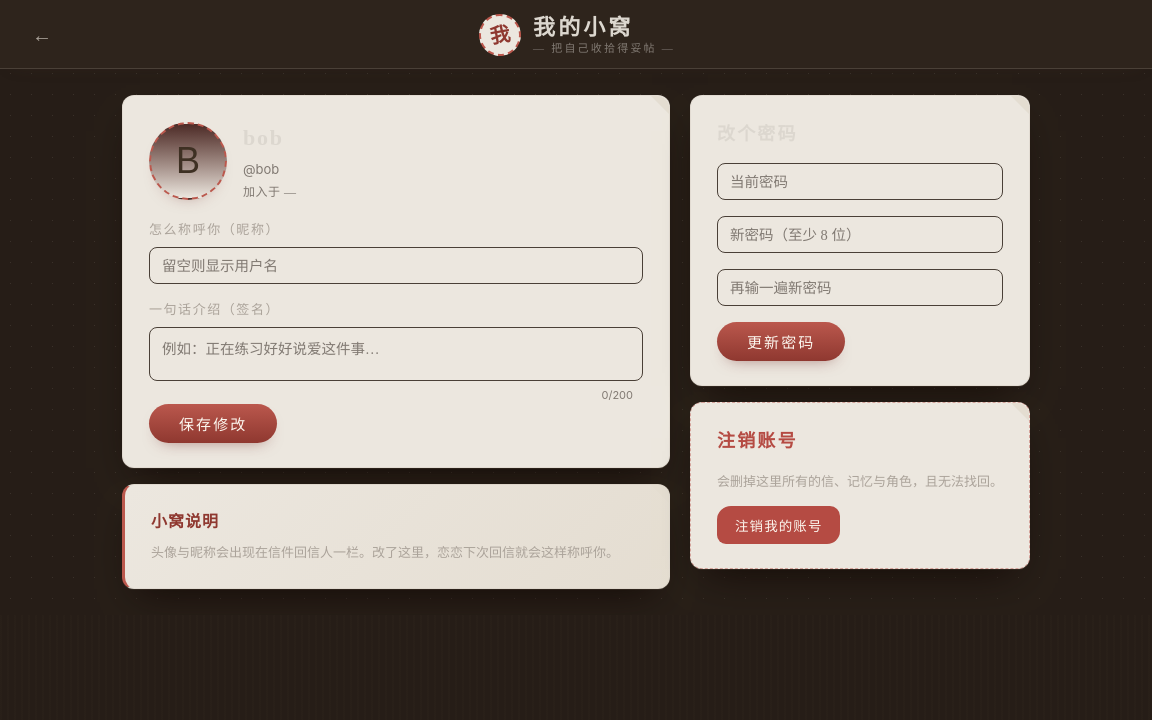
Test: Profile.vue › 保存返回 success=false：提示标红、不发广播、不污染本地缓存
Click the button with class "save-btn" showing "保存修改": (213, 424) [149,404,277,443]
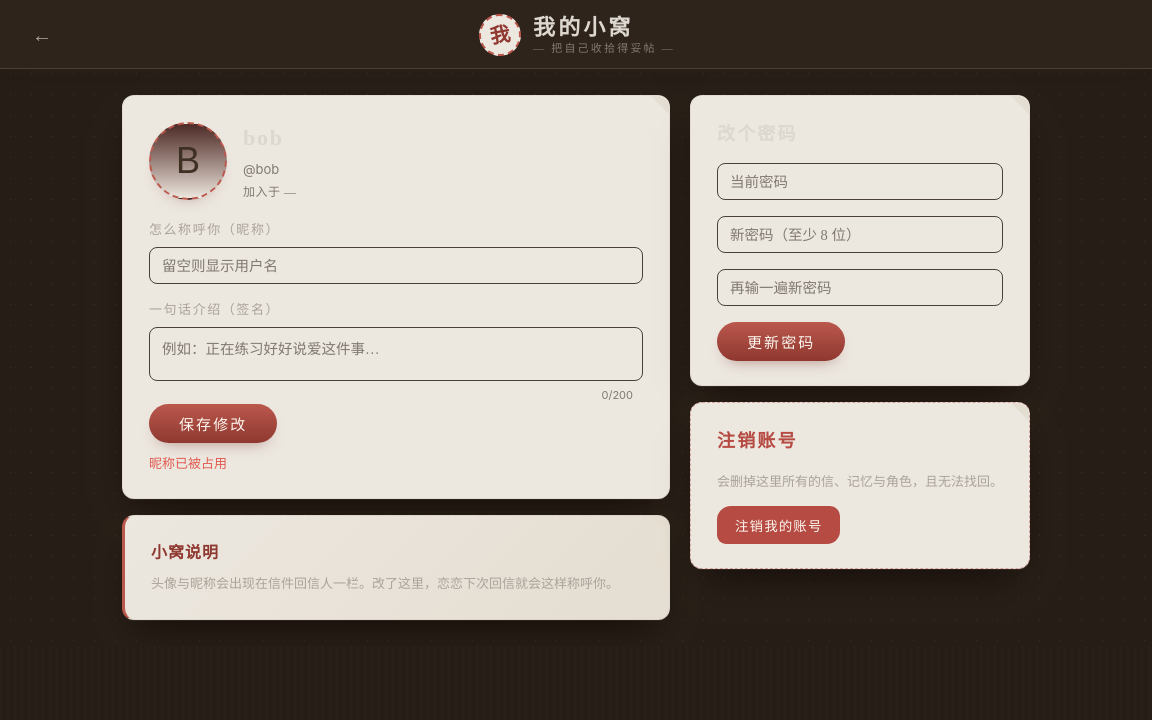
Now the text with class "form-msg" reads "昵称已被占用", box [149,455,227,471]
